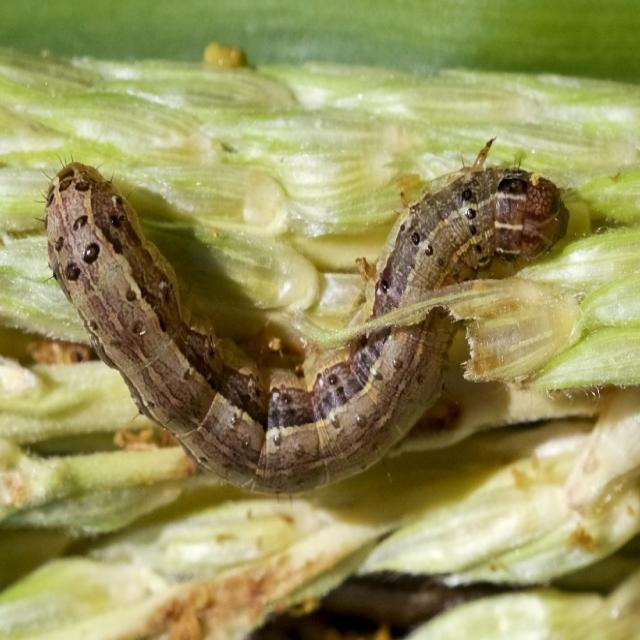armyworm: (24, 86, 571, 487)
